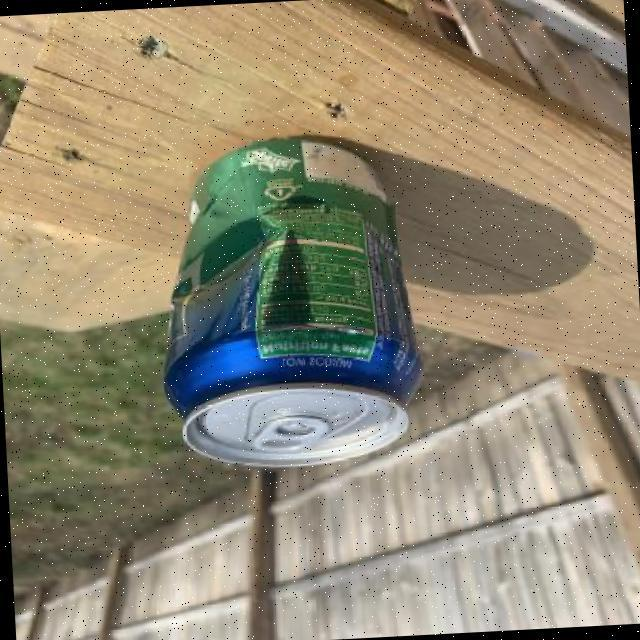debris: (124, 116, 444, 525)
